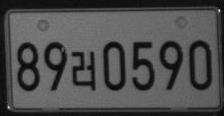0: (188, 39, 212, 91), (102, 40, 126, 91)
5: (131, 40, 154, 91)
8: (16, 41, 40, 92)
9: (43, 40, 68, 91), (158, 40, 183, 90)
러: (70, 50, 97, 90)
